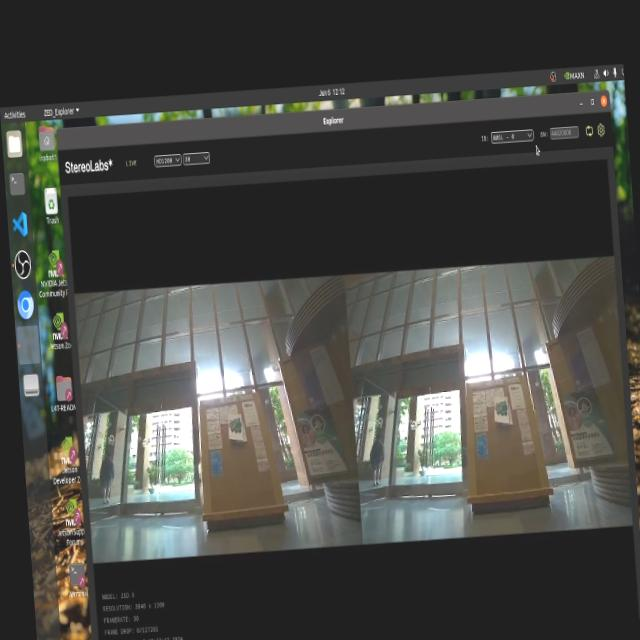green: (218, 413, 248, 444), (492, 398, 514, 428)
